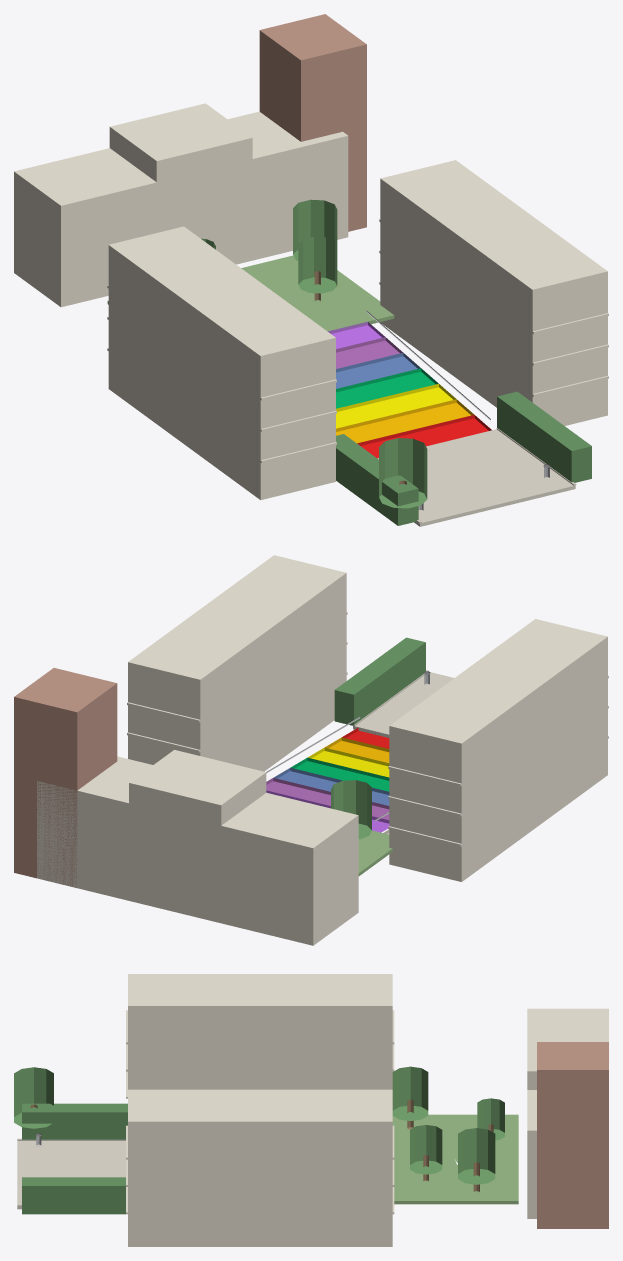
Rendered from rainbow_stairs.glb.
The picture shows the model from 3 angles, top to bottom: view 1: azimuth 30°, elevation 25°; view 2: azimuth 150°, elevation 25°; view 3: azimuth 270°, elevation 25°; orthographic projection. The views are drawn at different scales.
Visible parts, largest first — view 1: QuadBuildings, Stairs, Pavement, Green, Hedge_R, Hedge_L, Tree_05, Tree_02, Tree_04; view 2: QuadBuildings, Stairs, Hedge_R, Pavement, Tree_01, Green; view 3: QuadBuildings, Green, Pavement, Hedge_R, Hedge_L, Tree_04, Tree_01, Tree_05, Tree_02, Tree_03.
Part boxes in pixels (x1,y1,x2,y2): QuadBuildings: [14, 14, 608, 500]; Stairs: [328, 310, 491, 458]; Pavement: [377, 429, 575, 526]; Green: [107, 255, 394, 333]; Hedge_R: [497, 391, 591, 482]; Hedge_L: [336, 434, 418, 525]; Tree_05: [379, 438, 427, 508]; Tree_02: [298, 236, 337, 301]; Tree_04: [293, 199, 337, 260]; QuadBuildings: [14, 555, 608, 945]; Stairs: [266, 716, 389, 832]; Hedge_R: [334, 637, 425, 725]; Pavement: [353, 672, 453, 834]; Tree_01: [331, 780, 371, 839]; Green: [358, 830, 392, 876]; QuadBuildings: [126, 974, 608, 1246]; Green: [392, 1114, 518, 1204]; Pavement: [17, 1141, 125, 1209]; Hedge_R: [22, 1177, 125, 1214]; Hedge_L: [22, 1103, 127, 1139]; Tree_04: [458, 1128, 495, 1193]; Tree_01: [392, 1066, 428, 1129]; Tree_05: [14, 1067, 53, 1128]; Tree_02: [410, 1125, 442, 1181]; Tree_03: [477, 1098, 504, 1140].
Bounding box in the file's own units: 29 × 16.28 × 49.47.
